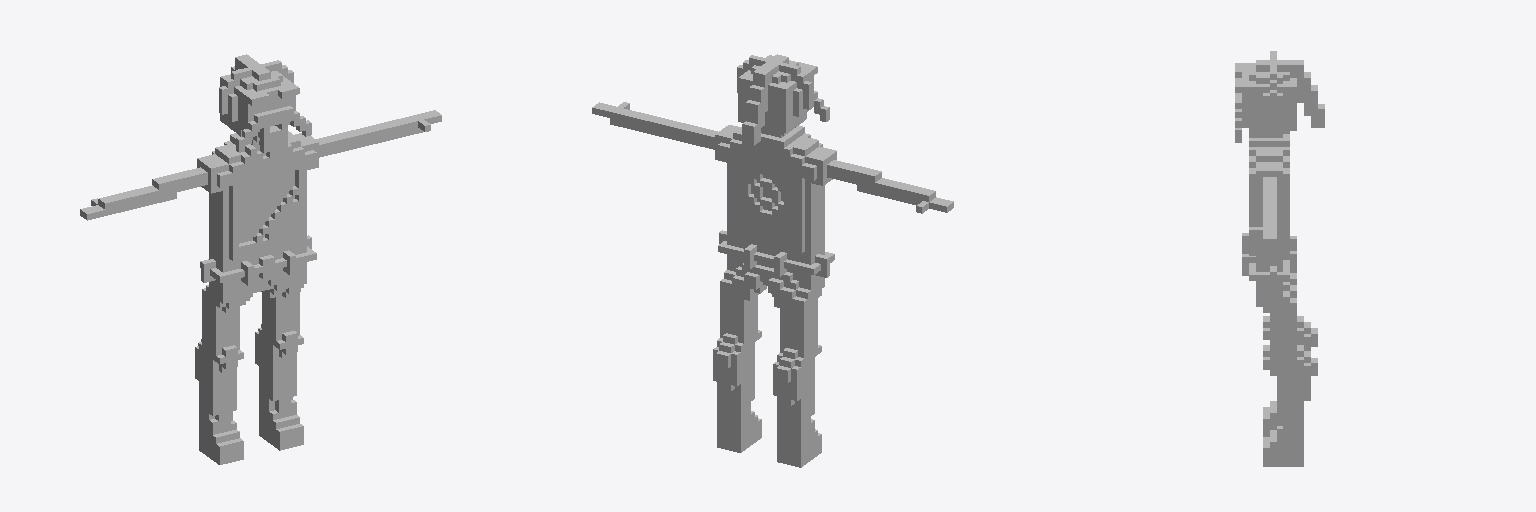
Rendered from pl 1 anim 3.obj.
3 renders of one model, left to right at view 1: azimuth 30°, elevation 25°; view 2: azimuth 150°, elevation 25°; view 3: azimuth 270°, elevation 25°, orthographic.
Visible parts, largest first — view 1: object 1; view 2: object 1; view 3: object 1.
Boxes of the visible parts, <box> form: object 1: <box>80,54,441,464</box>; object 1: <box>592,54,953,467</box>; object 1: <box>1235,51,1324,466</box>.
Bounding box in the file's own units: 5.9 × 6.1 × 1.3.